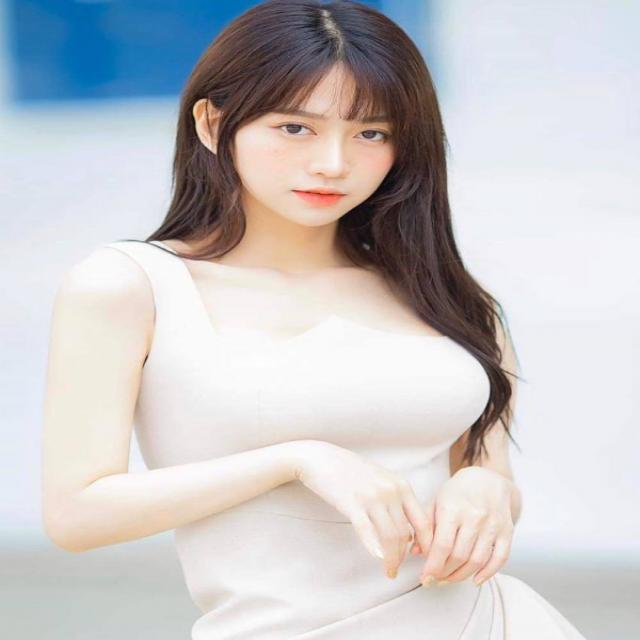clothes: (91, 222, 599, 640)
